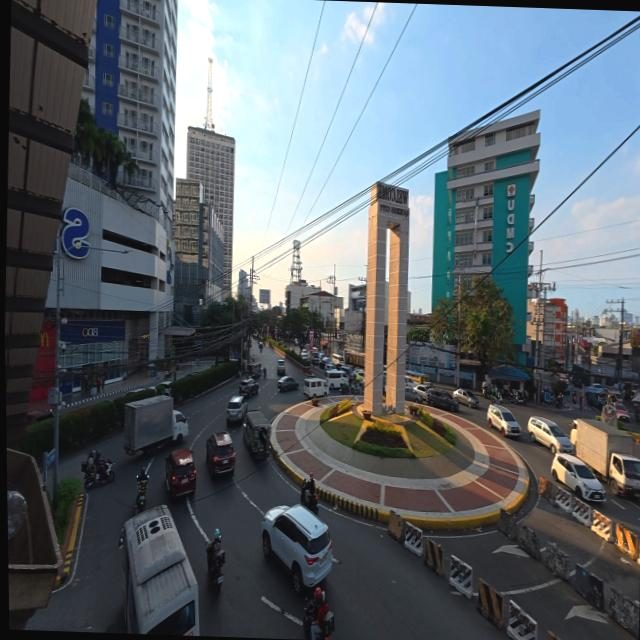car: (257, 502, 336, 596), (202, 431, 238, 478), (484, 406, 521, 439), (224, 396, 246, 427), (451, 388, 480, 408), (275, 374, 298, 392)
trucks: (257, 502, 336, 596)
